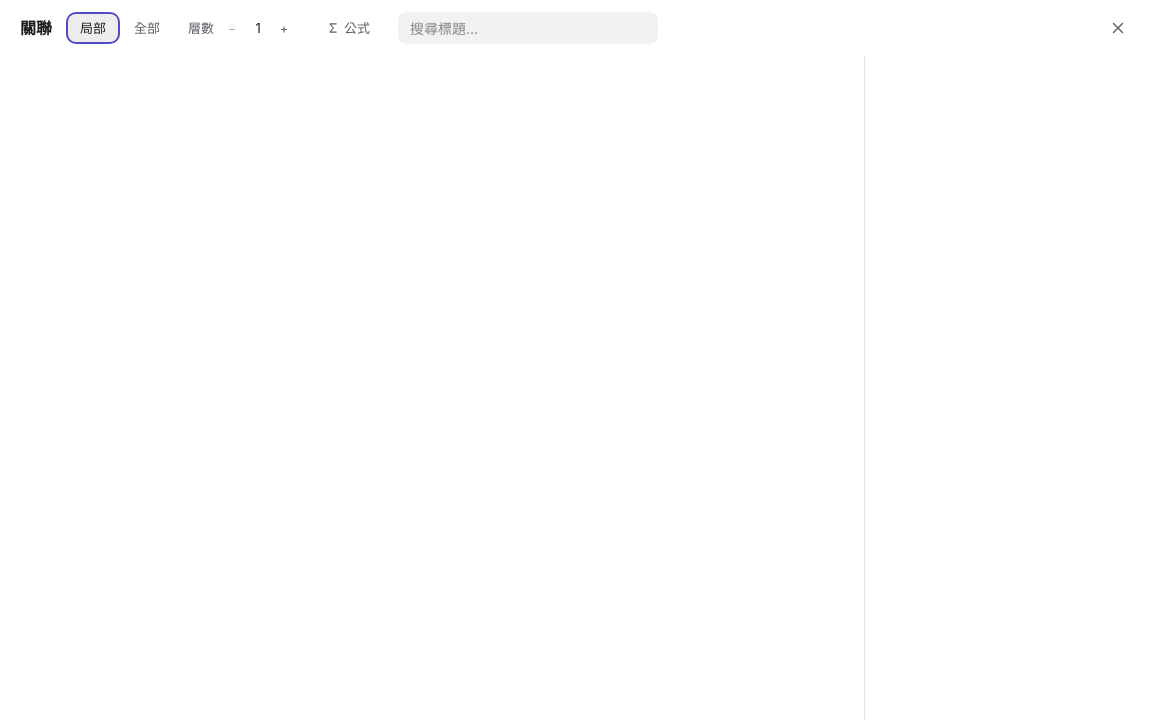
Test: GraphOverlay › tells when only the most linked 300 are shown
What coordinates should you click on to do the following:
click the button "全部"
I would click on:
 (147, 28)
Its box is [122,14,172,42].
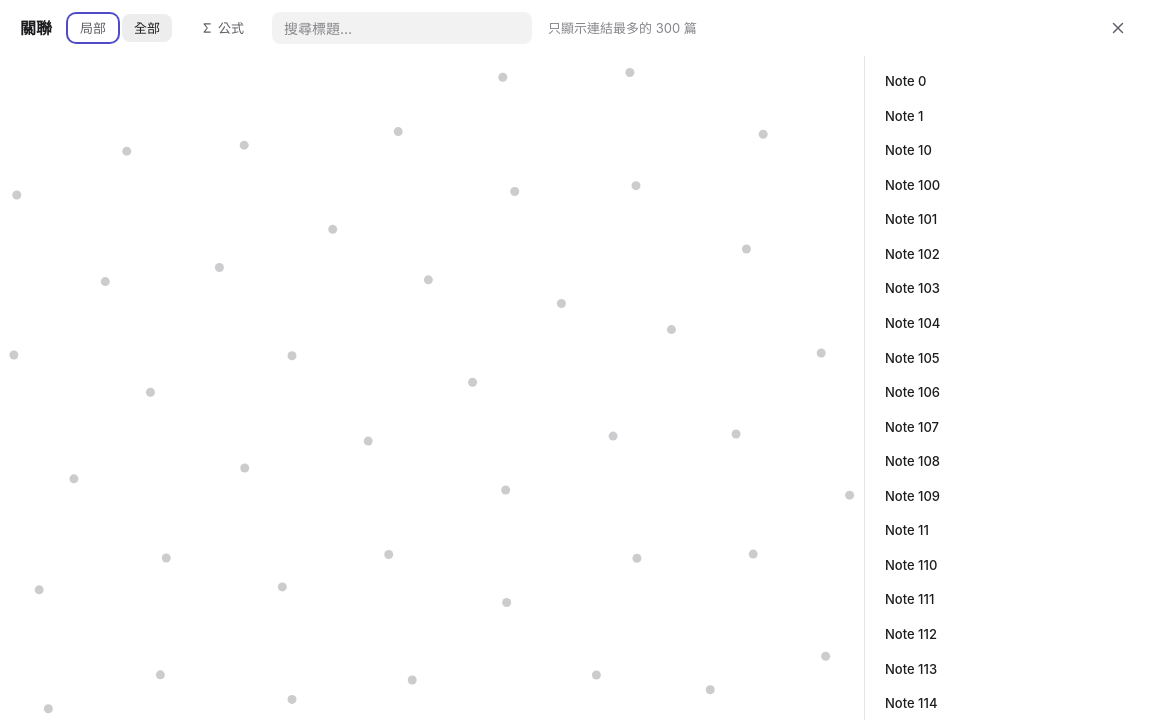
Expected: the text "只顯示連結最多的 300 篇" is shown, [548,19,697,37]
